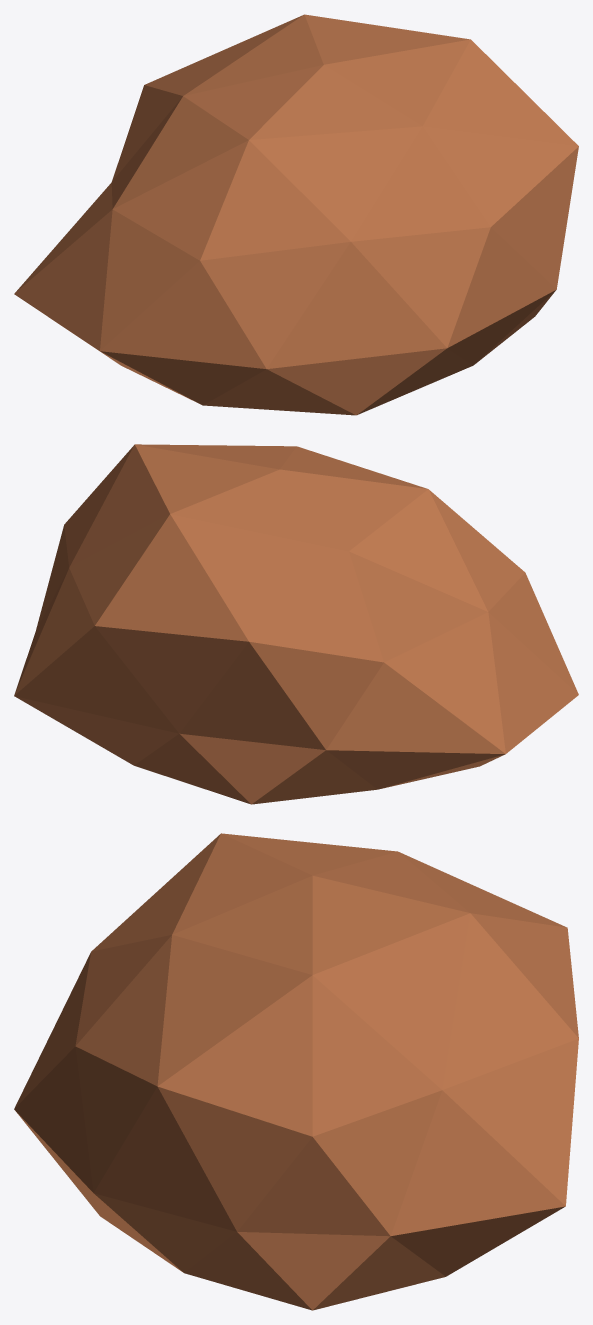
The model's file is boulder_b.fbx.
The picture shows the model from 3 angles, top to bottom: view 1: azimuth 30°, elevation 25°; view 2: azimuth 150°, elevation 25°; view 3: azimuth 270°, elevation 25°; orthographic projection. The views are drawn at different scales.
Parts seen in each view (by area): view 1: Boulder_B; view 2: Boulder_B; view 3: Boulder_B.
Boxes of the visible parts, bbox=[...] form: Boulder_B: bbox=[14, 14, 578, 415]; Boulder_B: bbox=[14, 444, 578, 804]; Boulder_B: bbox=[14, 833, 578, 1310].
Bounding box in the file's own units: 581 × 284 × 479.
